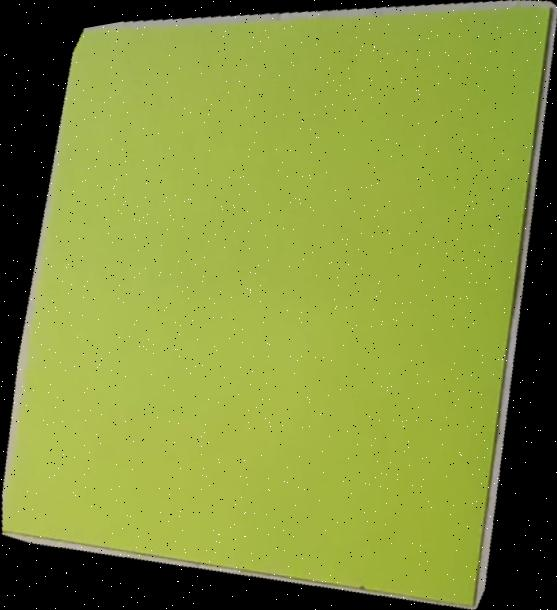Boxes: (1, 0, 557, 609)
